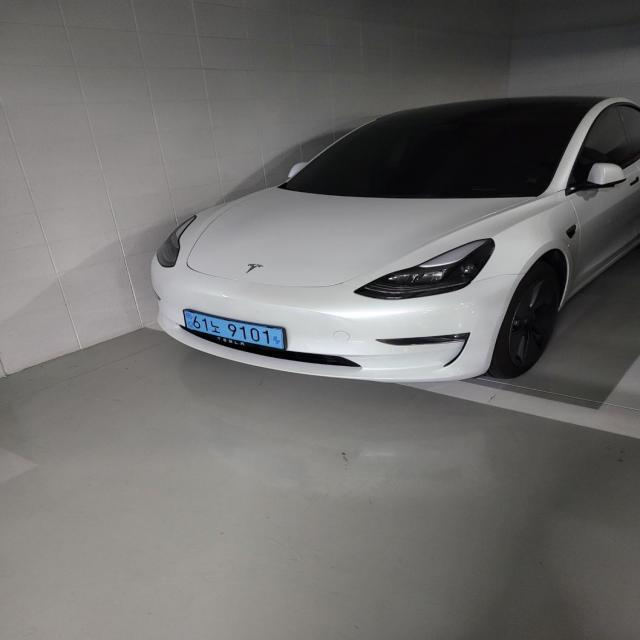EV_plate: (185, 304, 290, 358)
car: (141, 90, 640, 391)
